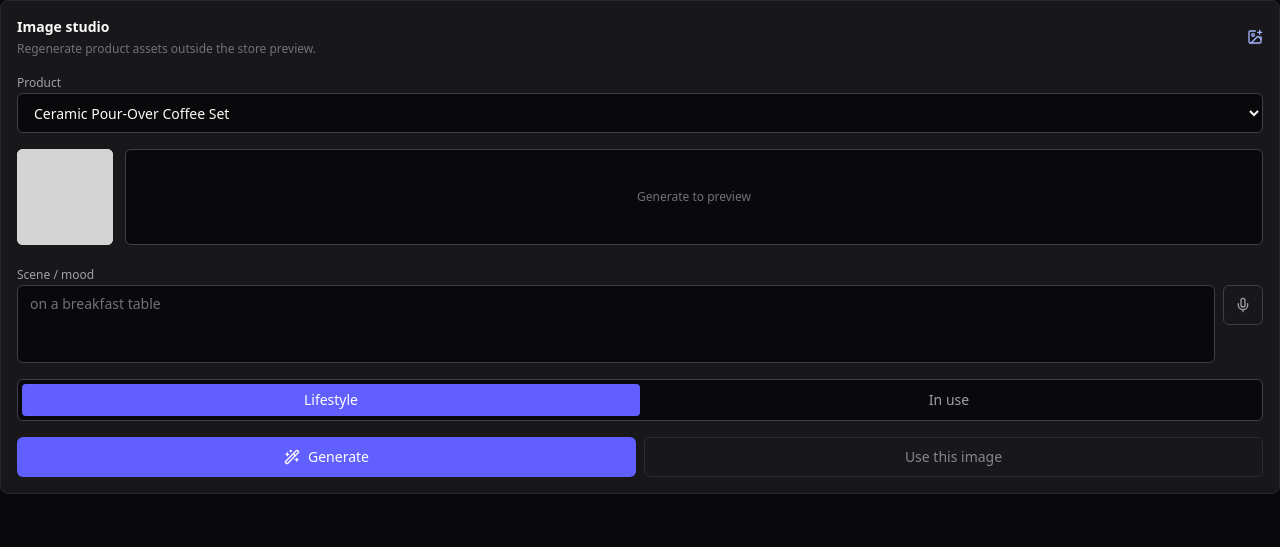
Scenario: ImageStudio › shows moderation errors and keeps inputs intact
Type "blocked context" into the text box with placeholder "on a breakfast table".
click(616, 324); type("blocked context")  # box [17,285,1215,363]
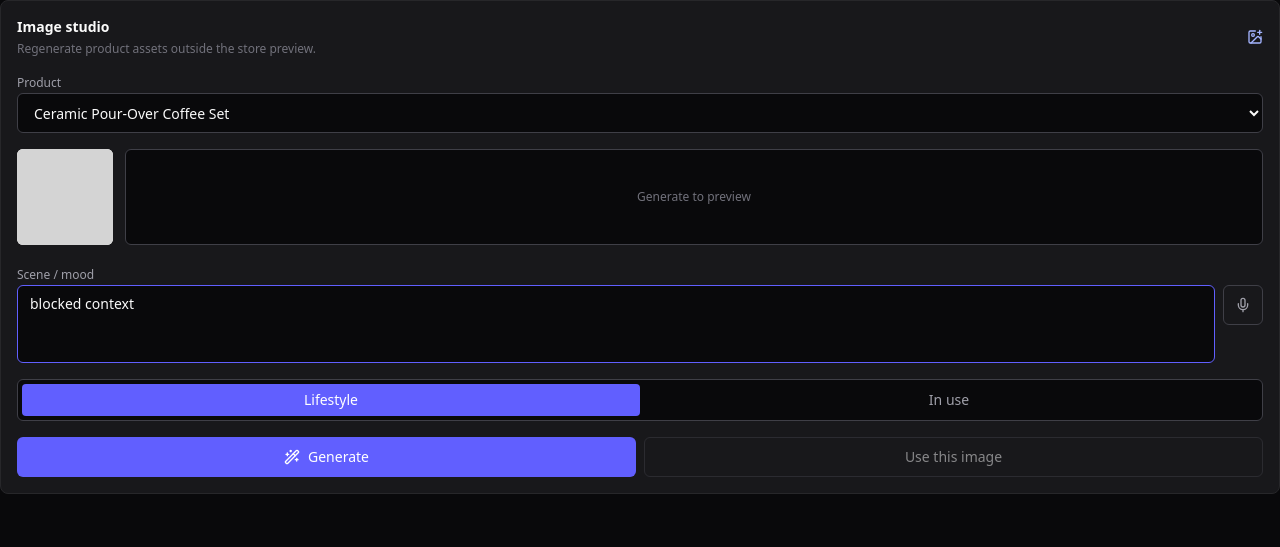
Click the button "Generate".
click(326, 457)  # box [17,437,636,477]
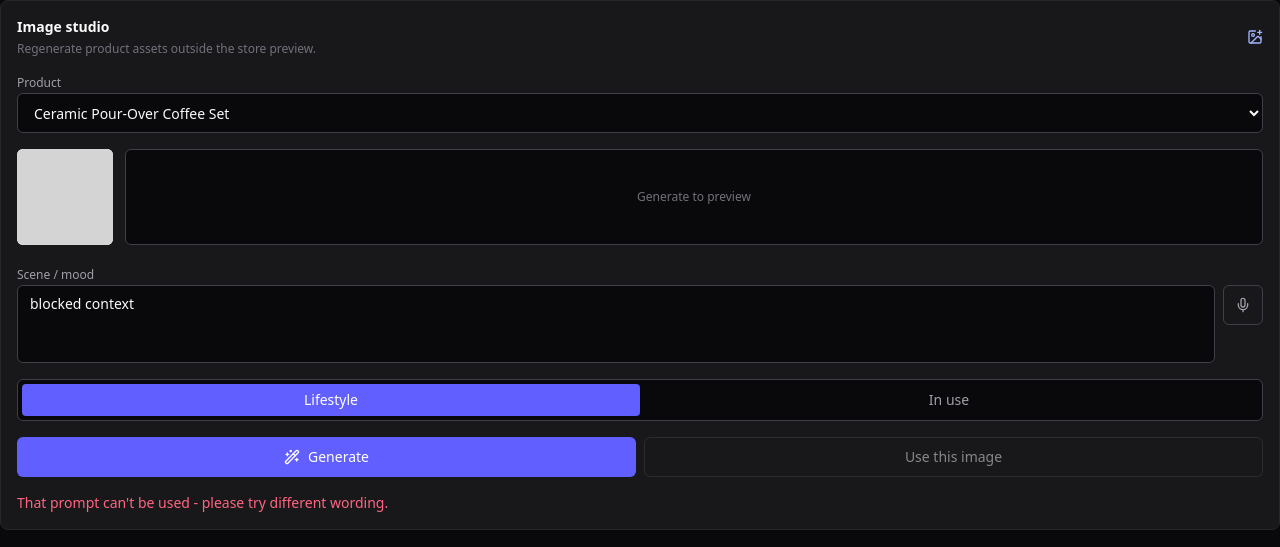
Expected: the text "That prompt can't be used - please try different wording." is shown, [17,493,388,512]
